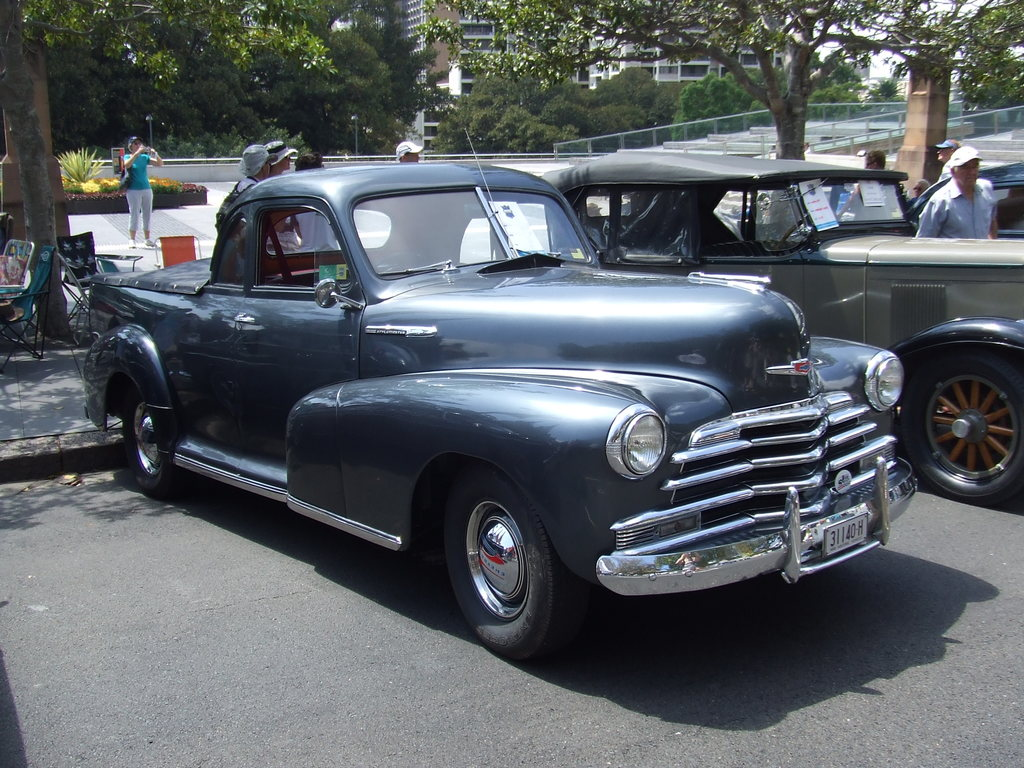Car: (85, 158, 920, 659), (542, 151, 1023, 504), (901, 163, 1023, 240)
